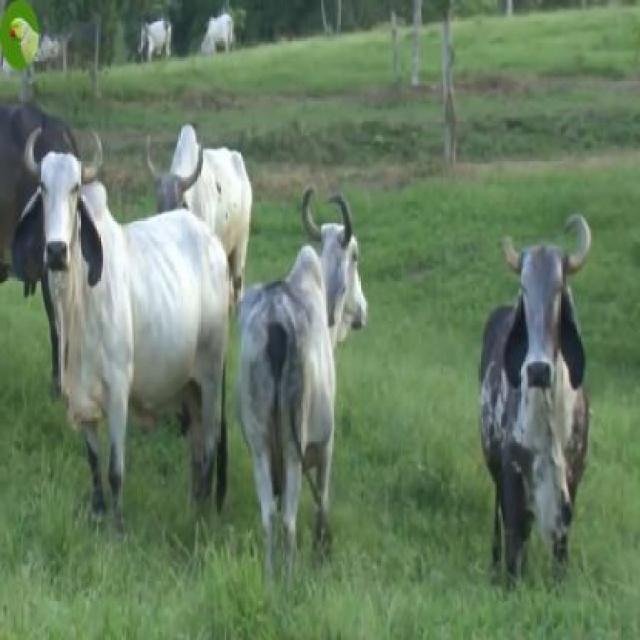Cow: (12, 123, 230, 520), (236, 192, 370, 597), (480, 213, 594, 582)
